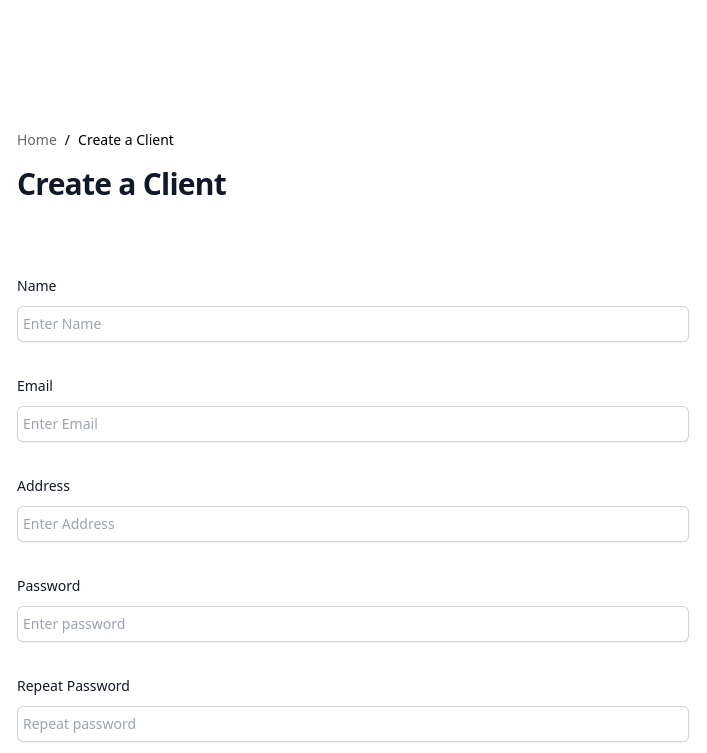
Test case: Client page › Happy Path › Shows a success message when the form is filled out
This screenshot has width=707, height=753.
Type "Test Userson" into the field with id "name" at [353, 324], box [17,306,689,342]
Type "test@nowhere.foo" into the field with id "email" at [353, 424], box [17,406,689,442]
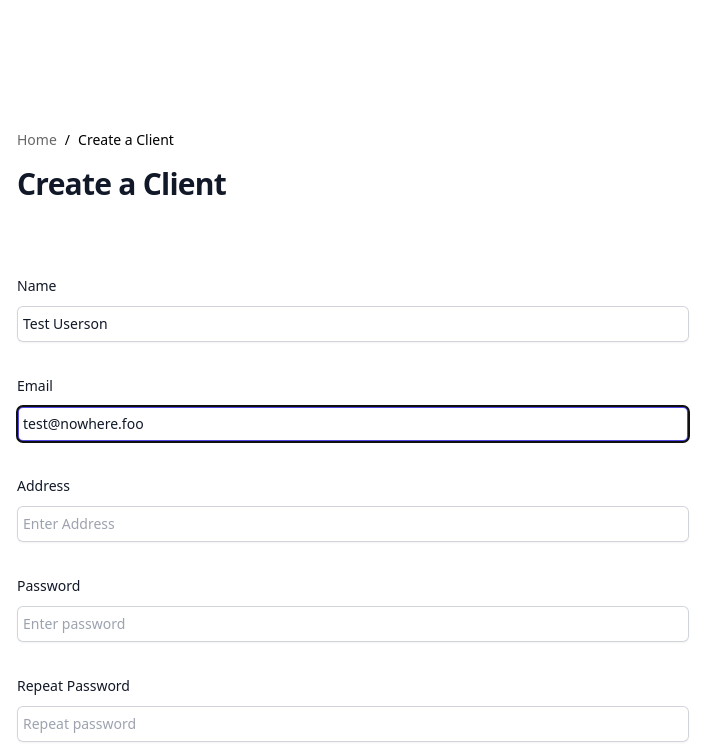
Type "1234 Nowhere St" into the field with id "address" at [353, 524], box [17,506,689,542]
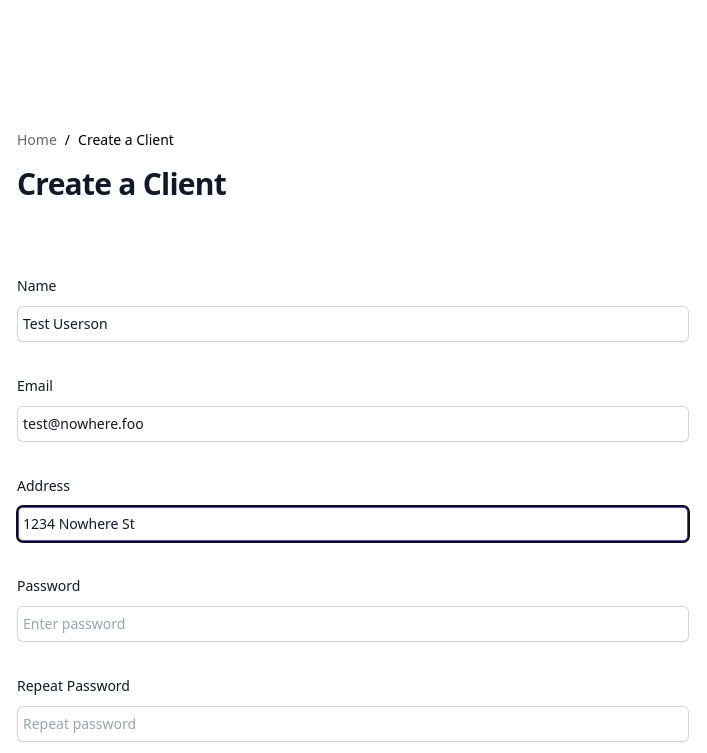
Type "password" into the field labelled "Password" at [353, 624], box [17,606,689,642]
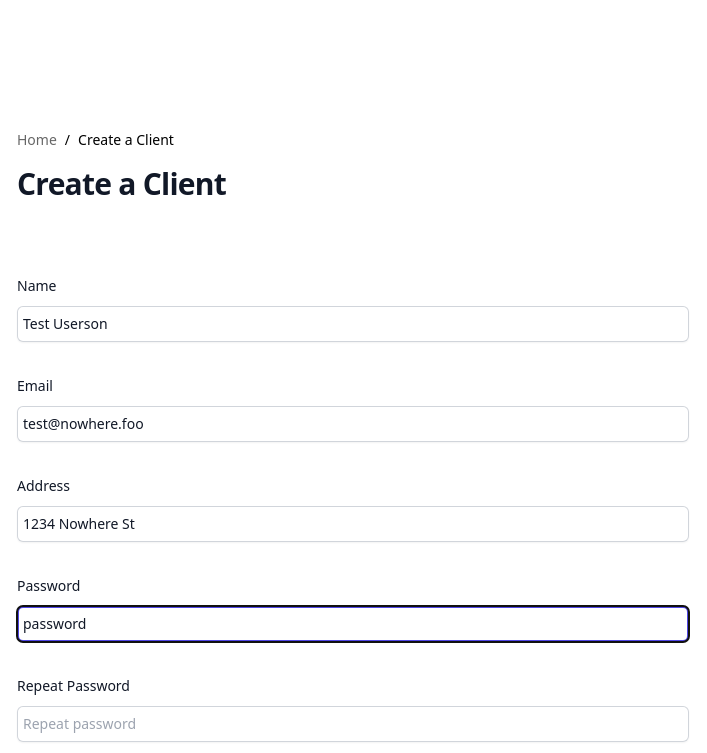
Type "password" into the field labelled "Repeat Password" at [353, 724], box [17,706,689,742]
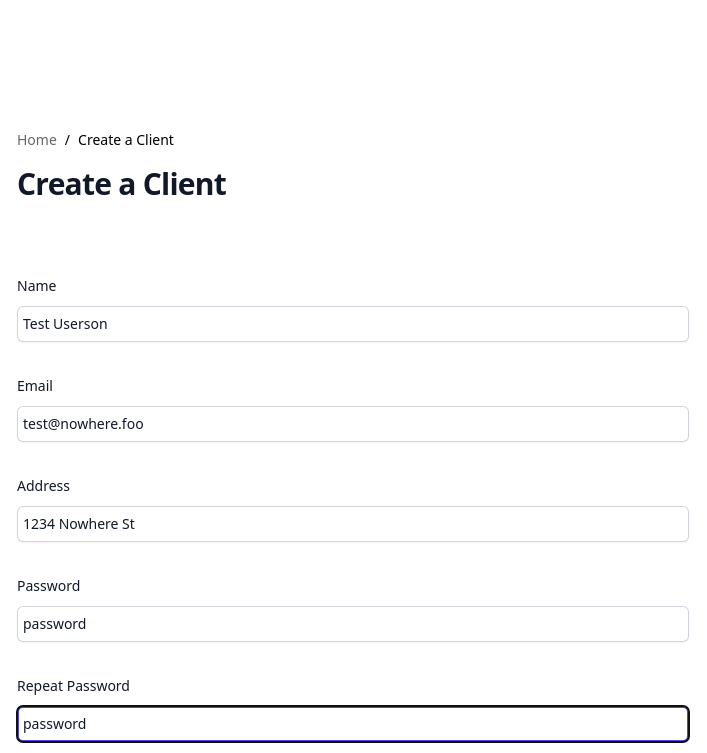
Scroll
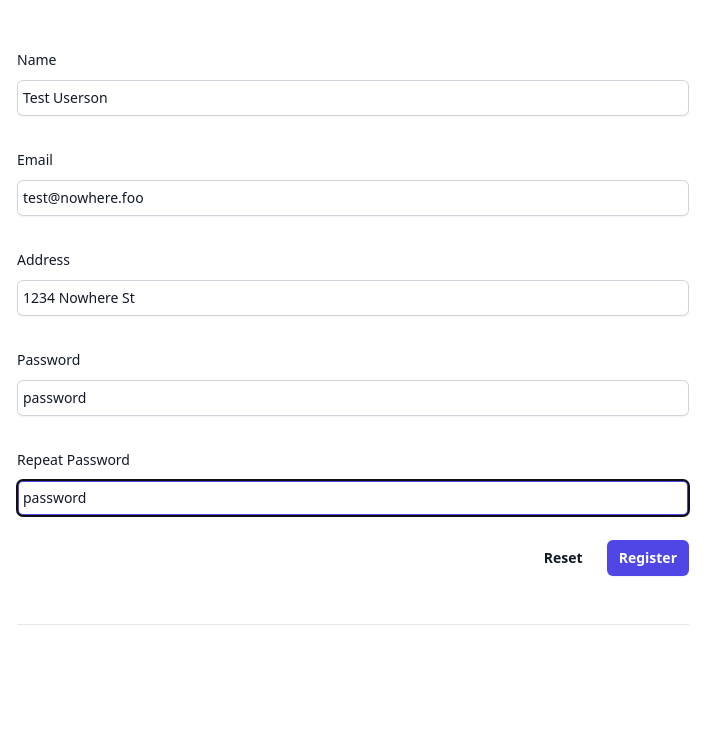
Click the button with id "submit" at [648, 558], box [607,540,689,576]
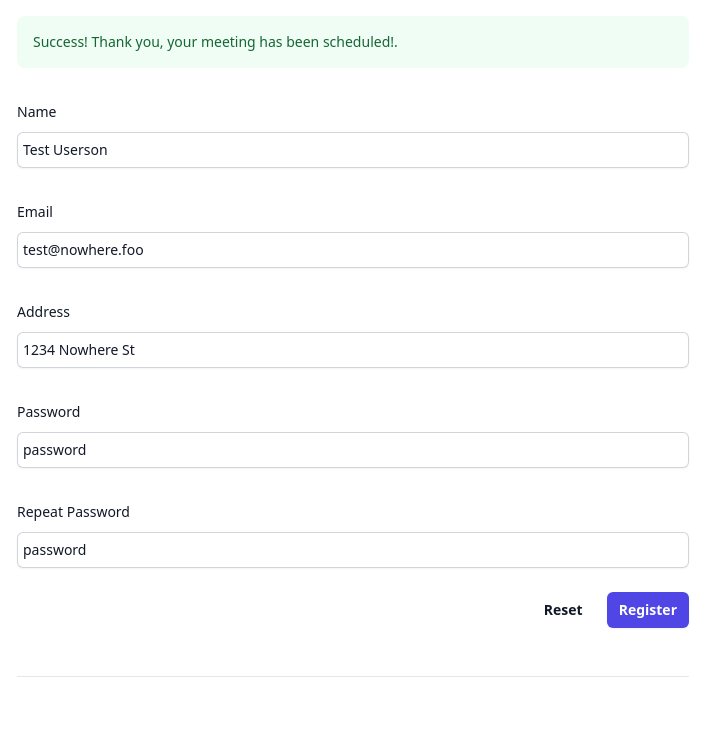
Expected: the text "Thank you, your meeting has been scheduled!." is shown, [88,32,398,51]
